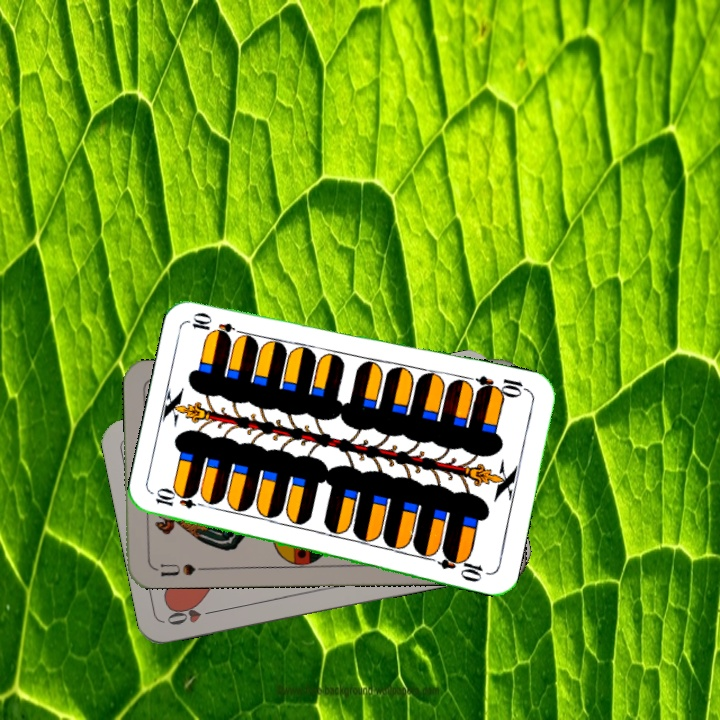E10: (473, 371, 532, 401), (151, 487, 210, 512)
HO: (163, 601, 221, 628)
SU: (150, 559, 209, 579)
